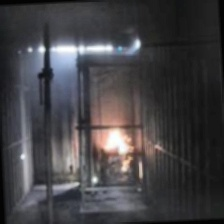fire: (103, 120, 132, 160)
